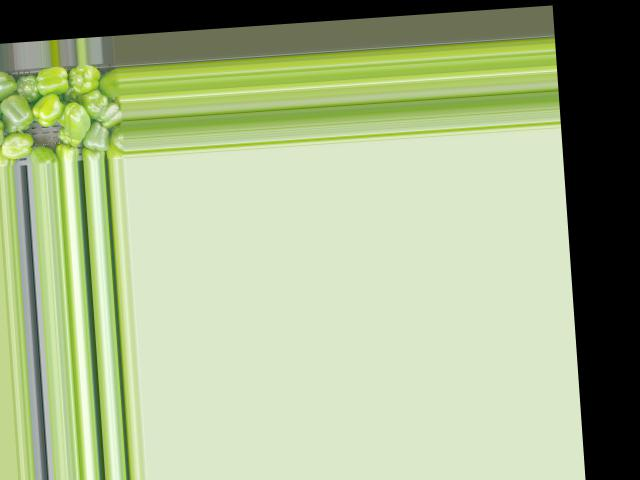bell_pepper: (99, 75, 122, 104)
